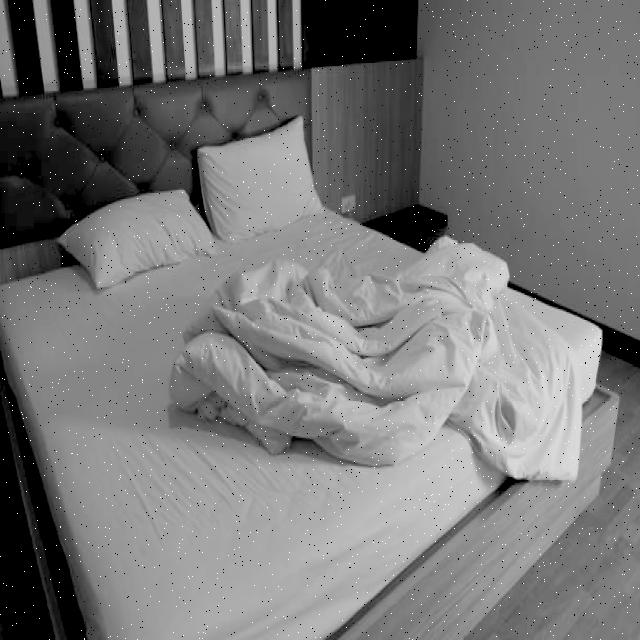bed: (0, 114, 602, 640)
